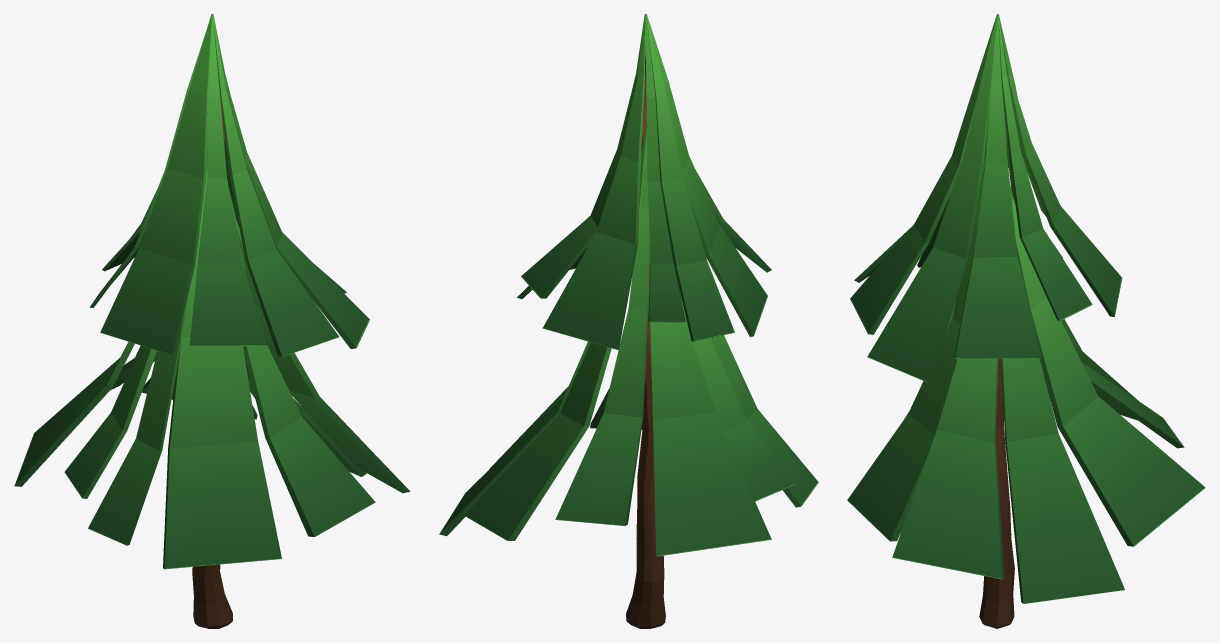
File: Tree3.fbx
3 views of the same model, side by side, from view 1: azimuth 30°, elevation 25°; view 2: azimuth 150°, elevation 25°; view 3: azimuth 270°, elevation 25° (orthographic).
Parts seen in each view (by area): view 1: SmallerTree_LOD0; view 2: SmallerTree_LOD0; view 3: SmallerTree_LOD0.
Boxes of the visible parts, x1,y1,x2,y2 form: SmallerTree_LOD0: (14, 14, 410, 628); SmallerTree_LOD0: (439, 14, 818, 628); SmallerTree_LOD0: (847, 14, 1205, 628).
Size of what is drawn, in the model's own units: 153 by 270 by 145.
2 materials, 2 textured.
